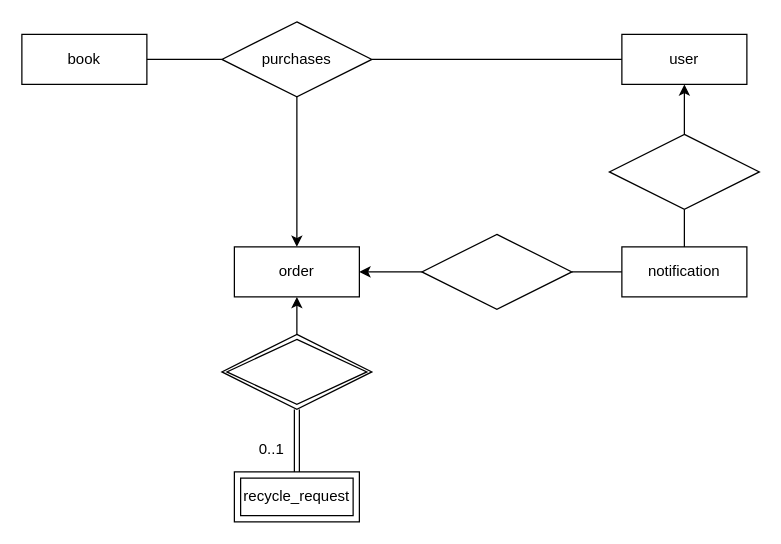
Some shapes in this 781 by 544 pixel diagram are drawn without their labels. Each missing label, with the centre of its shape:
attaches: pixel 296 371
informs: pixel 683 171
triggers: pixel 496 271
